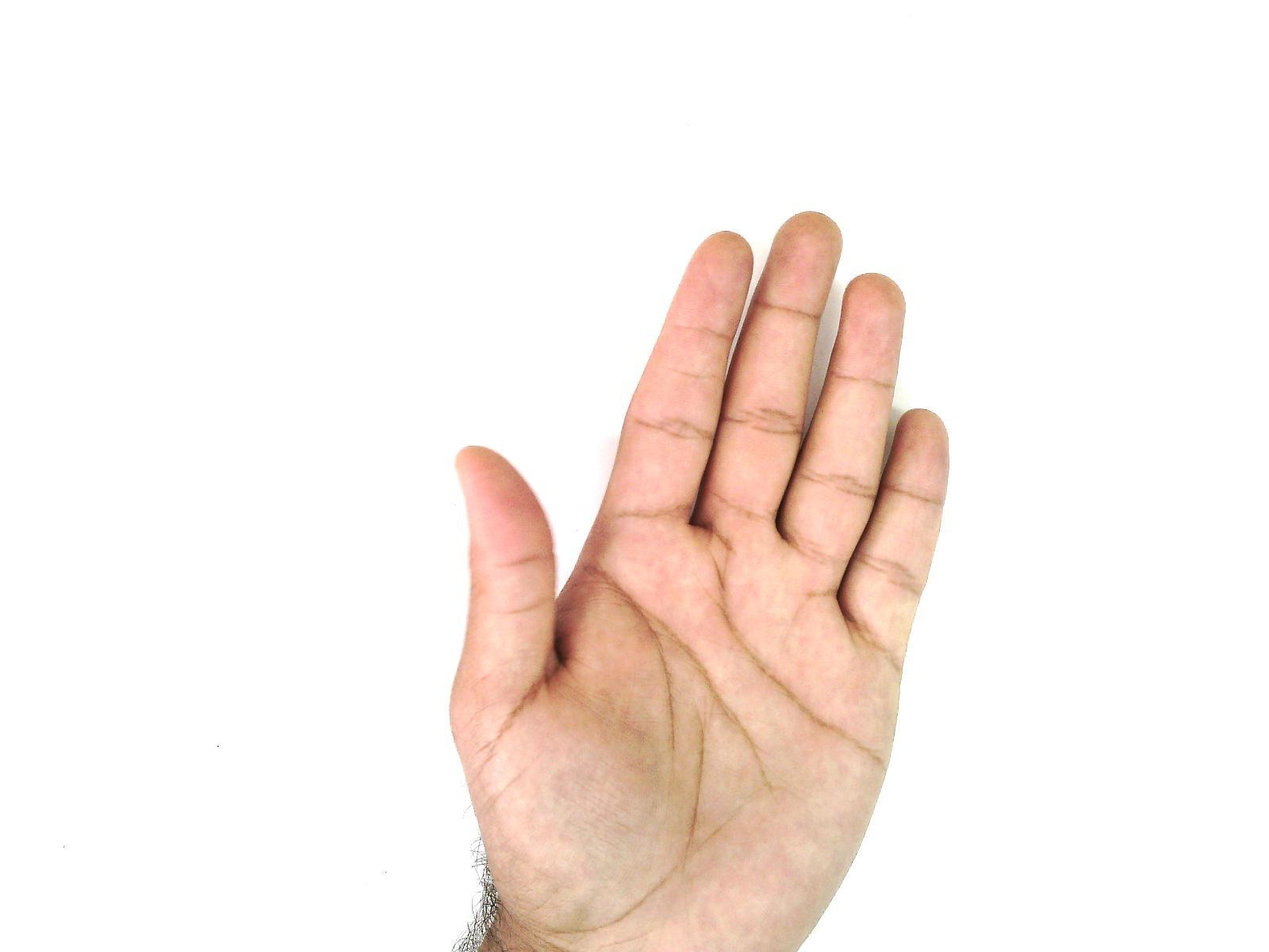open_palm: (446, 209, 953, 951)
